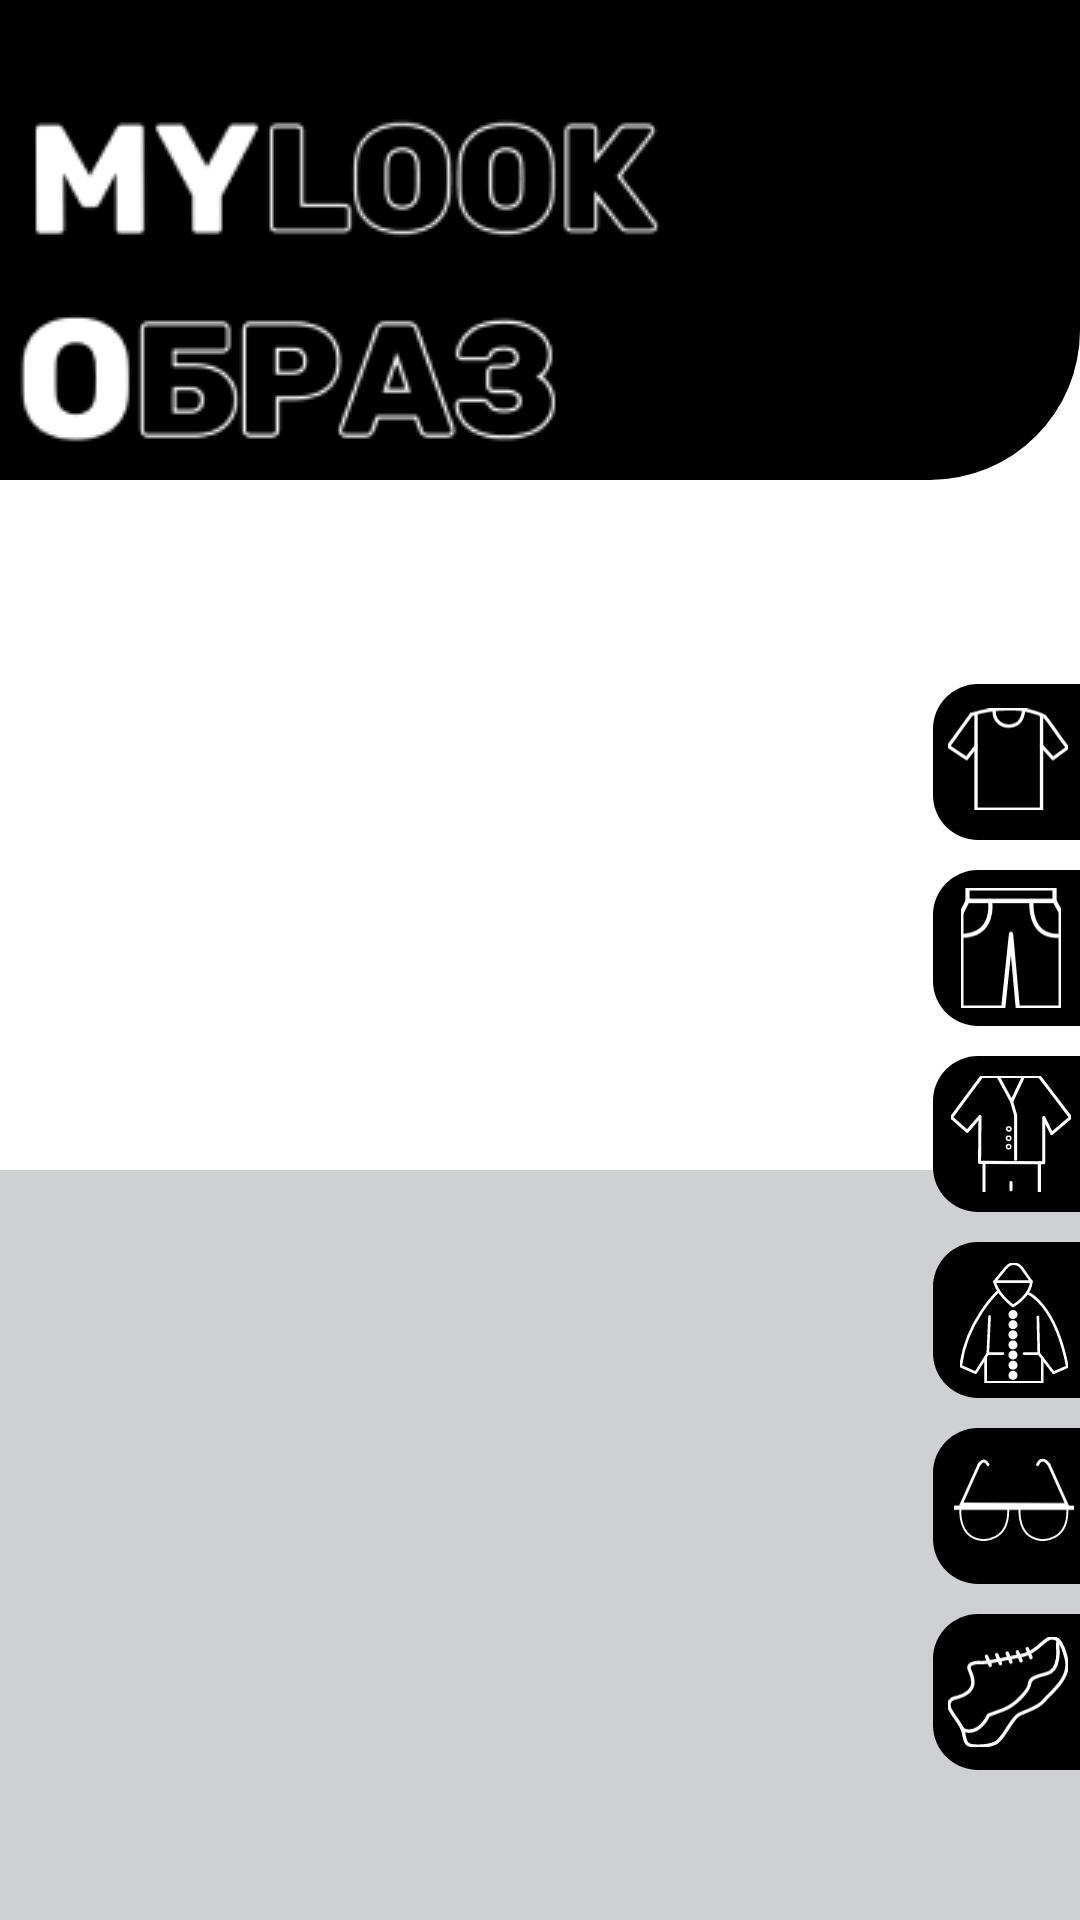

Icon bounding boxes for this 1080 × 1920 phone screenshot, format {"left": x1, "top": y1, "right": x2, "bottom": y2}:
futbolka: {"left": 948, "top": 708, "right": 1068, "bottom": 810}
kompl: {"left": 951, "top": 1076, "right": 1071, "bottom": 1192}
ochki: {"left": 954, "top": 1459, "right": 1074, "bottom": 1541}
resource short: {"left": 961, "top": 888, "right": 1061, "bottom": 1008}
tolstovka: {"left": 960, "top": 1263, "right": 1068, "bottom": 1383}
